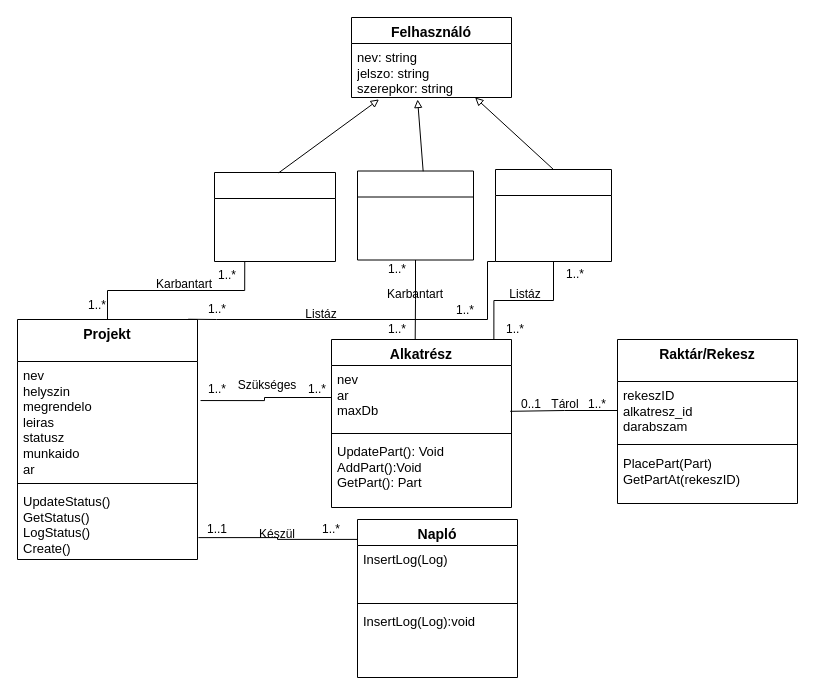
The diagram is 815 pixels wide and 698 high, and some of its shapes have lost their labels. Here are the shapes that lost their labels. From the top down, the centre of each, then its label:
At (275,217): "Szakember".
At (415,215): "Raktárveze t ő".
At (553,215): "Raktáros".
